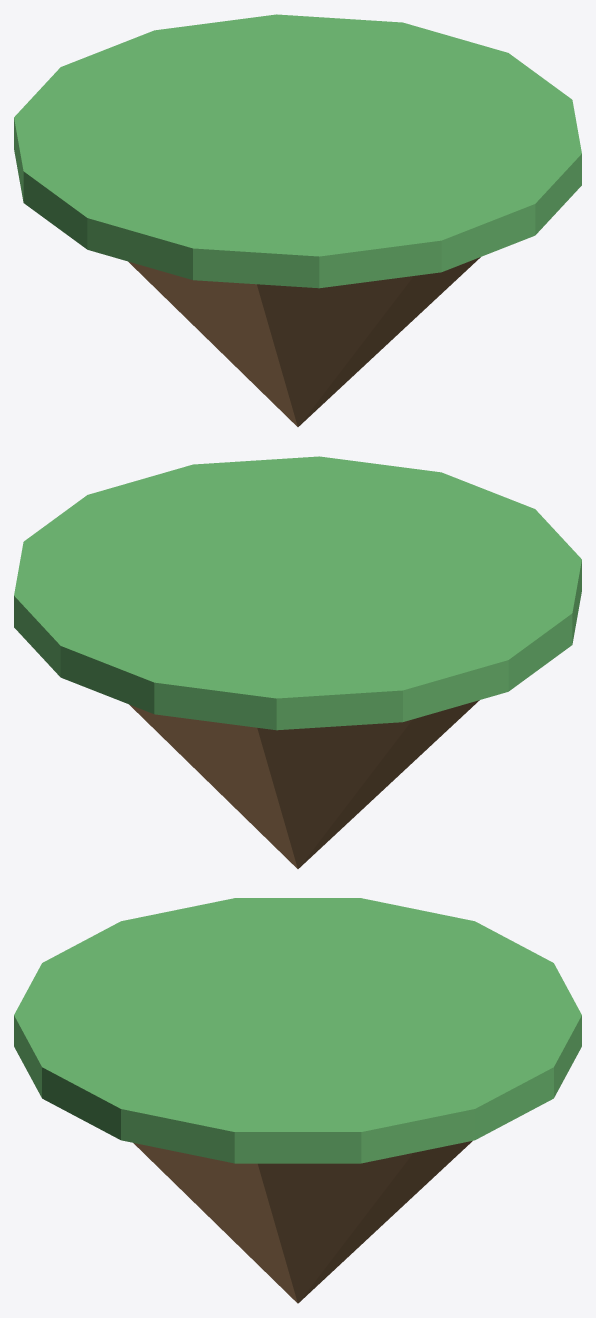
The model's file is Plane_Island.fbx.
3 views of the same model, one above another, from view 1: azimuth 30°, elevation 25°; view 2: azimuth 150°, elevation 25°; view 3: azimuth 270°, elevation 25° (orthographic).
Visible parts, largest first — view 1: Island; view 2: Island; view 3: Island.
Part boxes in pixels (<box>): Island: <box>14,14,581,426</box>; Island: <box>14,456,581,868</box>; Island: <box>14,898,581,1303</box>.
Size of the model in its own units: 7.99 by 4.6 by 8.2.
